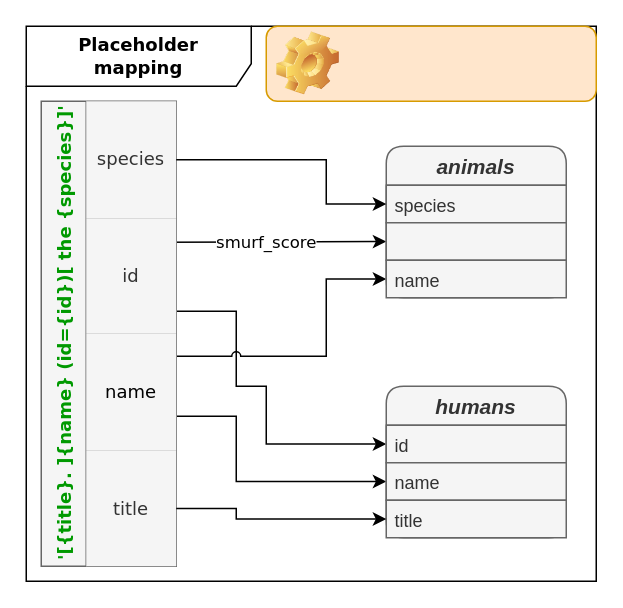
Some shapes in this 623 by 608 pixel diagram are drawn without their labels. The centre of each missing label's shape, as x and y in pixels:
animal_id: the point at 475,240
Mapper(smurf_score): the point at 430,63
